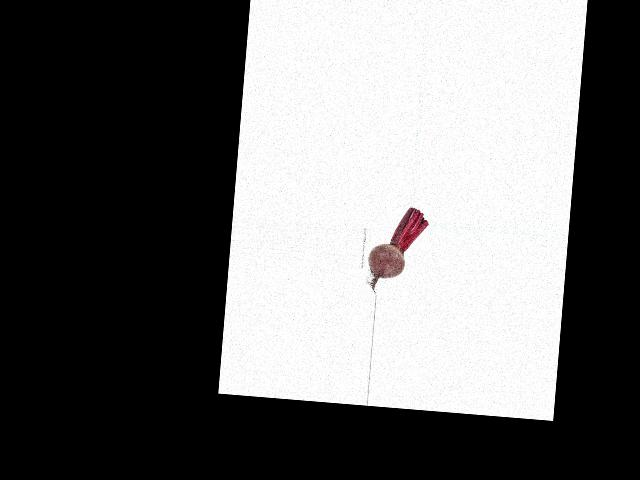beet: (365, 204, 429, 297)
